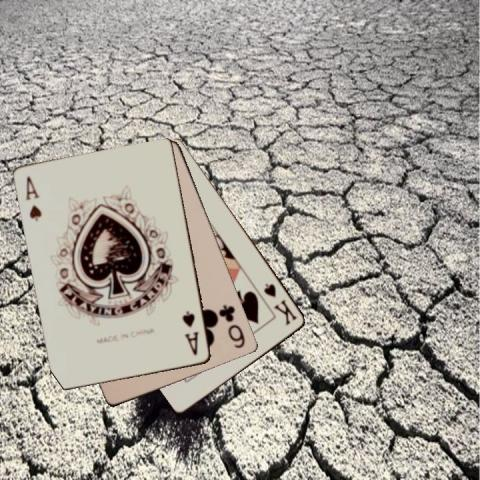6c: (216, 302, 246, 350)
As: (179, 308, 200, 357), (23, 172, 43, 222)
Ks: (260, 280, 298, 327)
